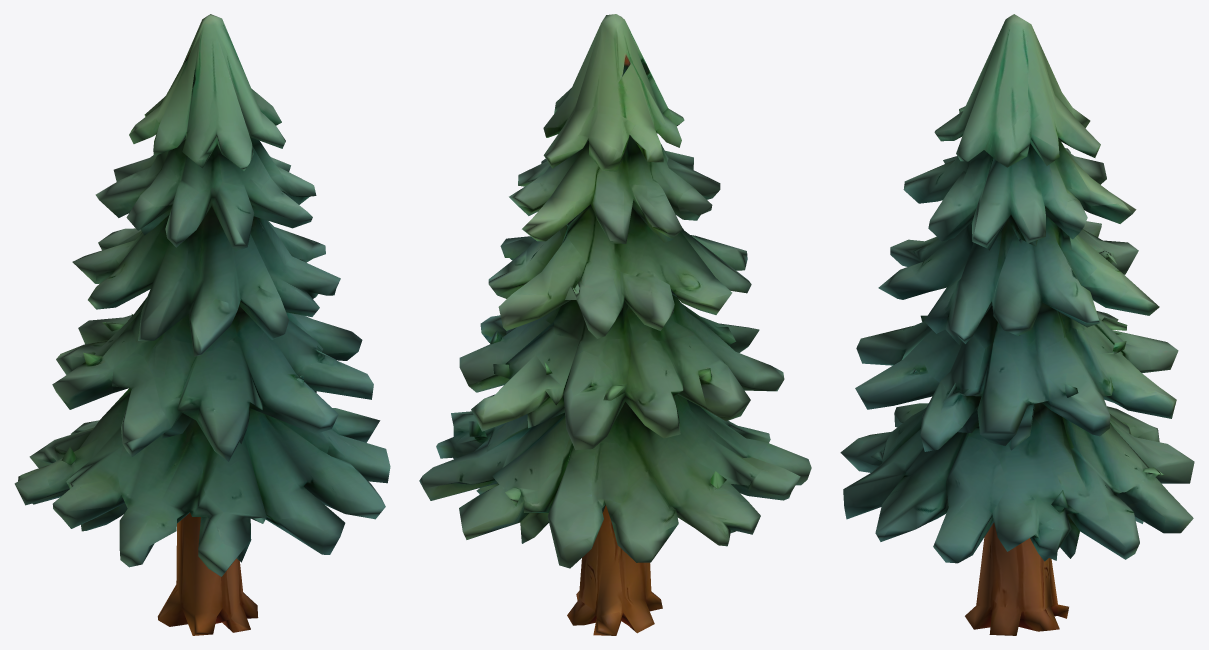
File: env-pine.glb
The picture shows the model from 3 angles, left to right: view 1: azimuth 30°, elevation 25°; view 2: azimuth 150°, elevation 25°; view 3: azimuth 270°, elevation 25°; orthographic projection.
Visible parts, largest first — view 1: tripo_node_847f3391-e27e-4706-8f09-e19fc4ebd954; view 2: tripo_node_847f3391-e27e-4706-8f09-e19fc4ebd954; view 3: tripo_node_847f3391-e27e-4706-8f09-e19fc4ebd954.
Part boxes in pixels (<box>): tripo_node_847f3391-e27e-4706-8f09-e19fc4ebd954: <box>14,14,390,635</box>; tripo_node_847f3391-e27e-4706-8f09-e19fc4ebd954: <box>419,14,811,635</box>; tripo_node_847f3391-e27e-4706-8f09-e19fc4ebd954: <box>840,14,1194,635</box>.
Bounding box in the file's own units: 0.5798 × 0.9999 × 0.5294.
1 material, 1 textured.
